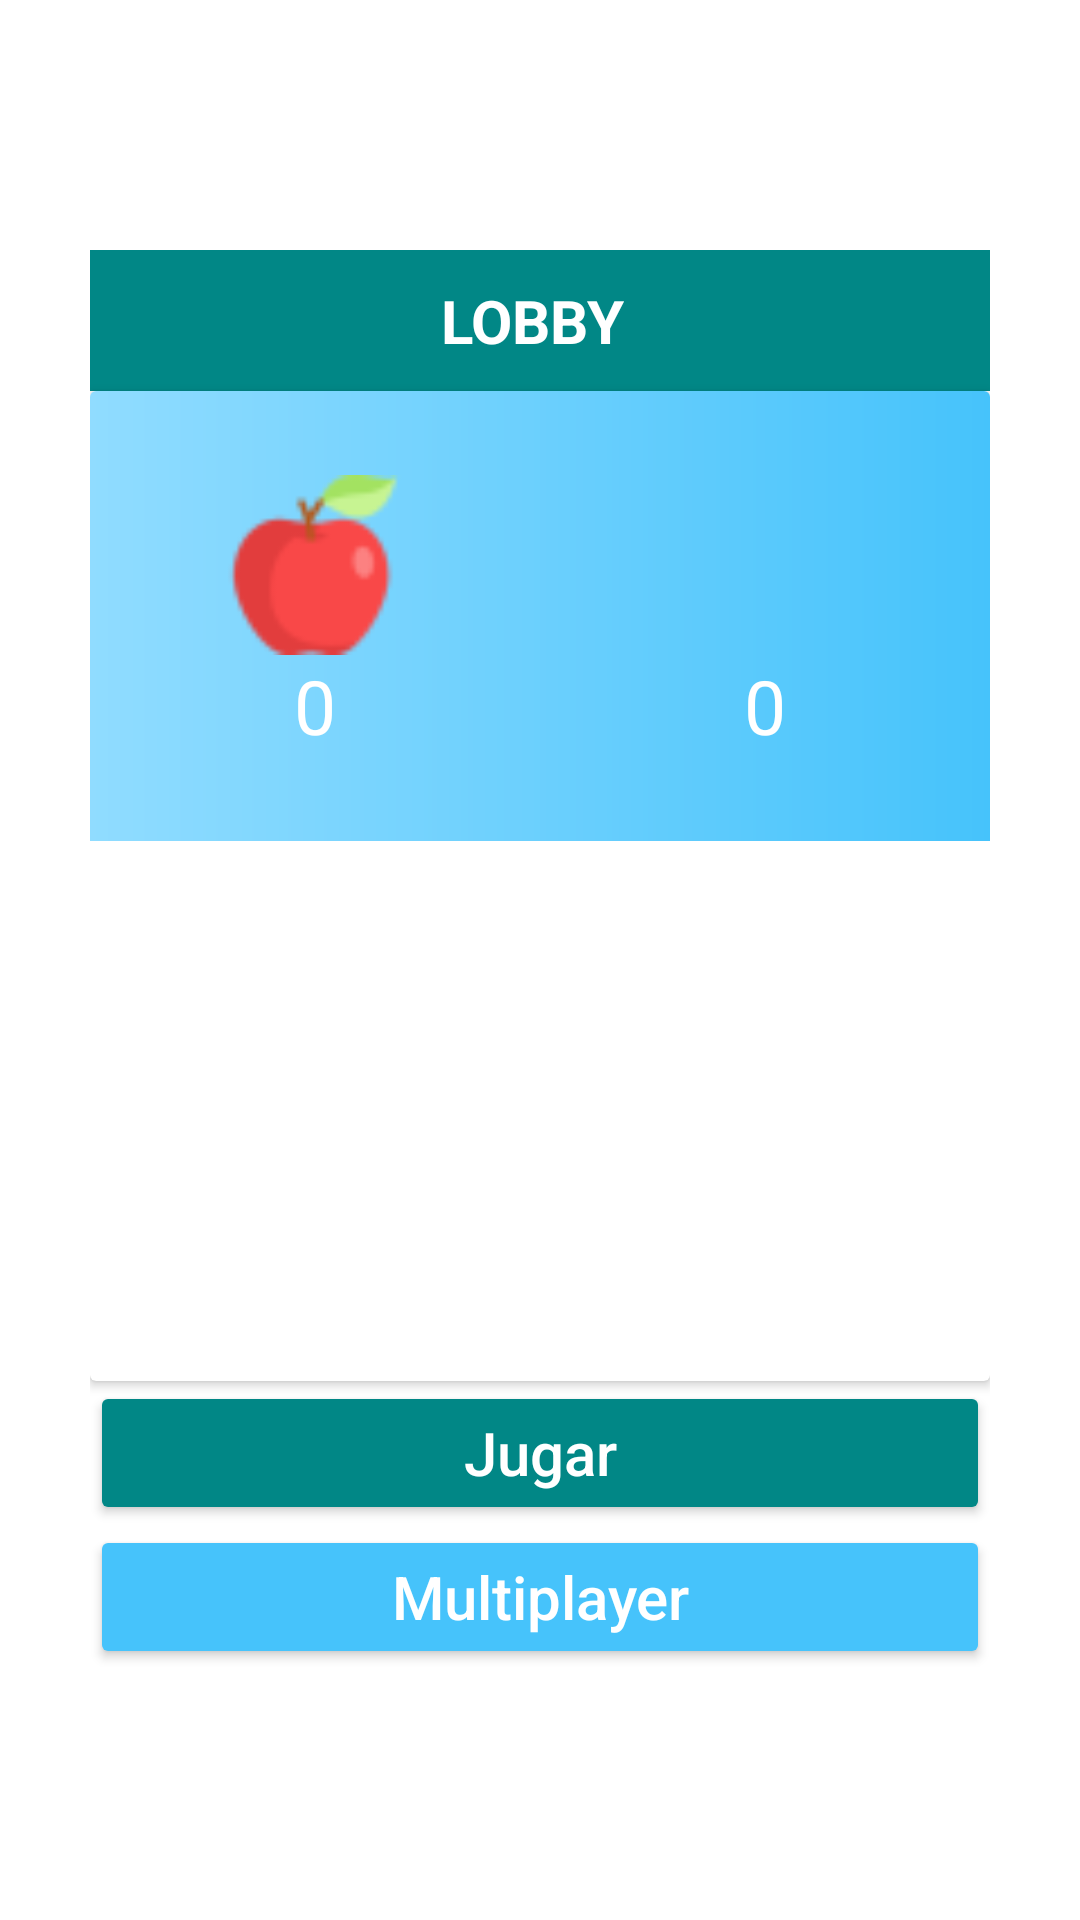

Named icons in this screenshot (1080*1920) and their bounding boxes, (x1, y1, x2, y2):
manzana: (232, 475, 397, 655)
